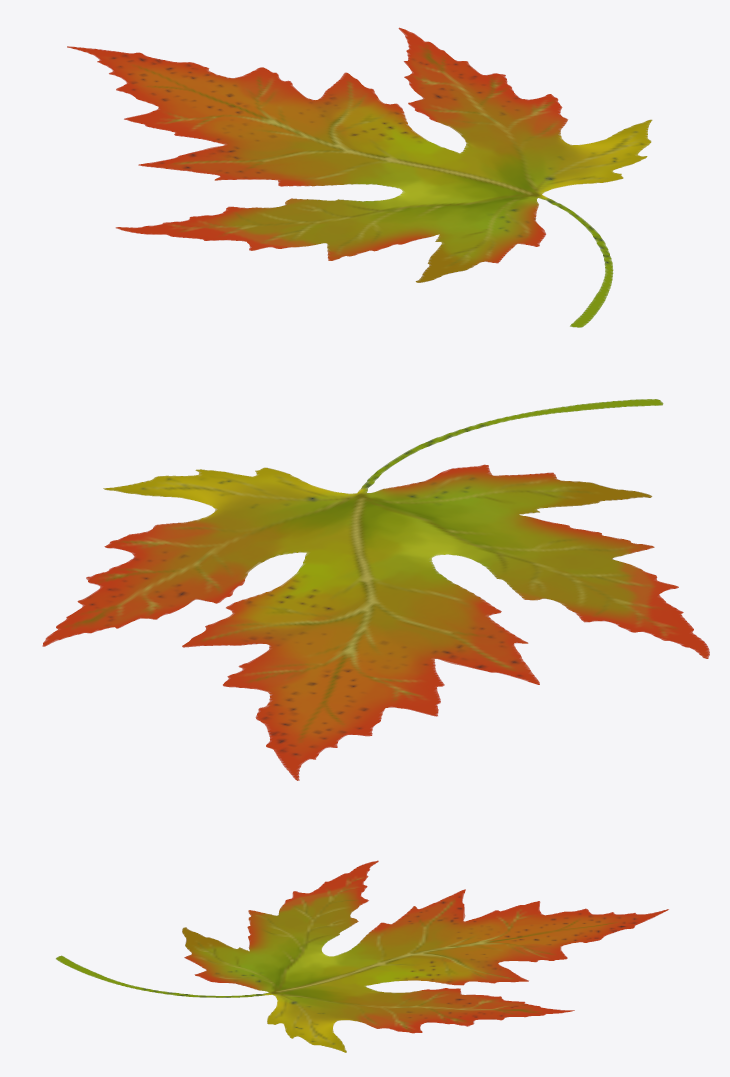
The model's file is dead_leaf_4.fbx.
The picture shows the model from 3 angles, top to bottom: view 1: azimuth 30°, elevation 25°; view 2: azimuth 150°, elevation 25°; view 3: azimuth 270°, elevation 25°; orthographic projection. The views are drawn at different scales.
Parts seen in each view (by area): view 1: dead_leaf_4; view 2: dead_leaf_4; view 3: dead_leaf_4.
Part boxes in pixels (box(x1,y1,x2,y2)): dead_leaf_4: box(67, 27, 652, 327); dead_leaf_4: box(42, 399, 709, 780); dead_leaf_4: box(55, 860, 668, 1052).
Size of the model in its own units: 20.38 by 0.4335 by 27.83.
